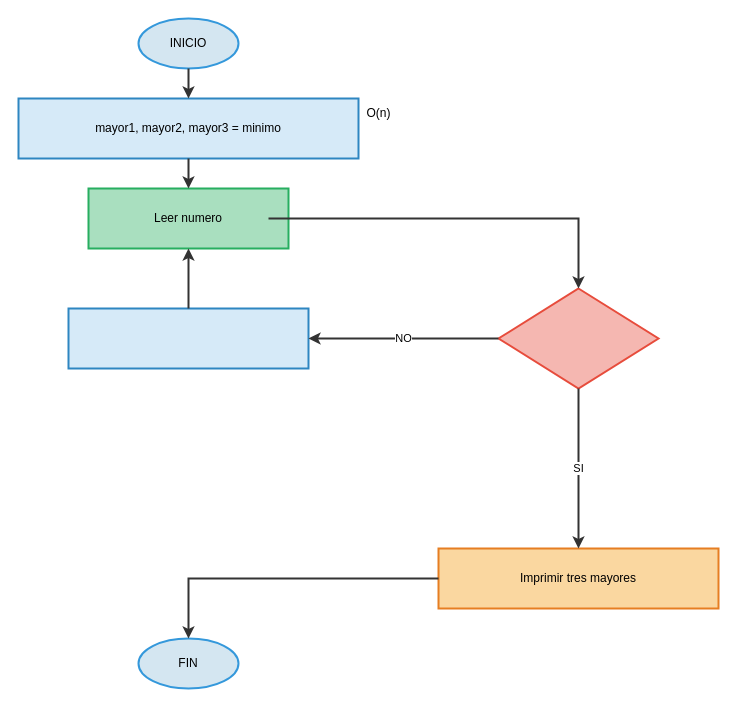
Some shapes in this 736 by 706 pixel diagram are drawn without their labels. Here are the shapes that lost their labels. From the top down, the centre of each, then its label:
(x=188, y=338): Actualizar top 3
(x=578, y=338): ¿numero == 0?
